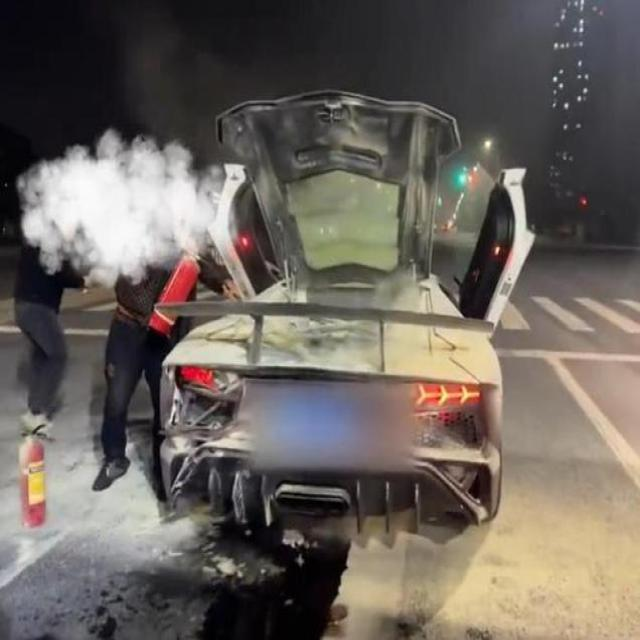Smoke: (13, 130, 231, 288)
